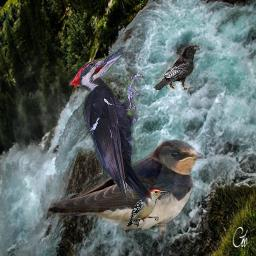Crow: (153, 45, 200, 90)
Swallow: (46, 137, 204, 238)
Woodpecker: (69, 47, 152, 207), (126, 189, 169, 227)
